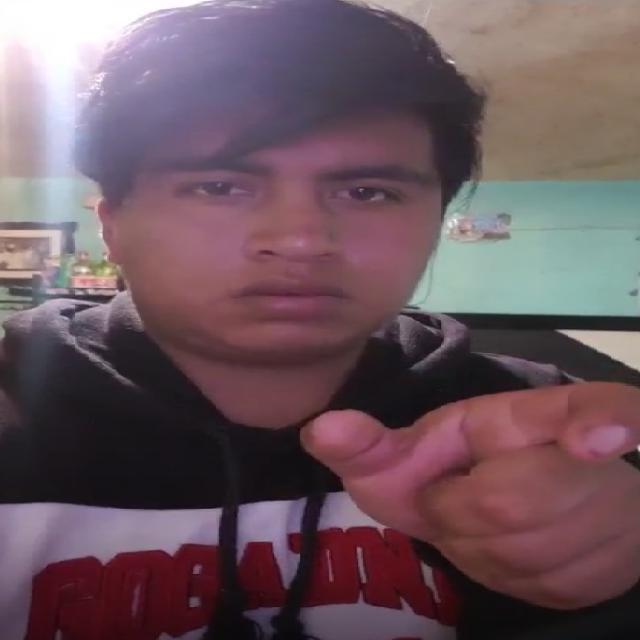X: (285, 363, 634, 622)
